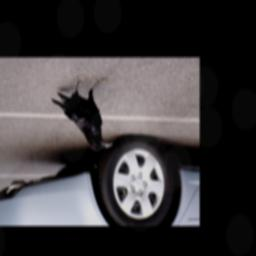Crow: (50, 77, 113, 153)
